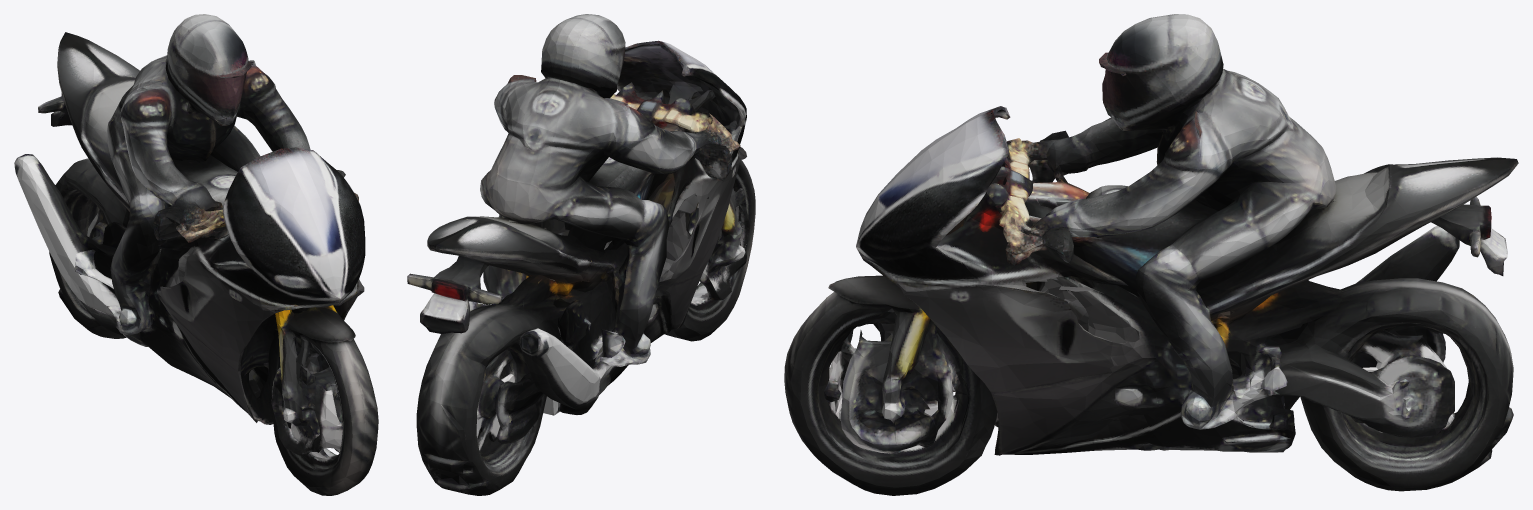
File: motorcycle_497923_20251230_114915_20251230_114939.glb
The picture shows the model from 3 angles, left to right: view 1: azimuth 30°, elevation 25°; view 2: azimuth 150°, elevation 25°; view 3: azimuth 270°, elevation 25°; orthographic projection. The views are drawn at different scales.
Parts seen in each view (by area): view 1: world; view 2: world; view 3: world.
Boxes of the visible parts, left/top/right/bottom form: world: left=14, top=14, right=378, bottom=495; world: left=407, top=14, right=755, bottom=495; world: left=784, top=14, right=1518, bottom=495.
Bounding box in the file's own units: 0.3673 × 0.7078 × 1.
1 material, 1 textured.
